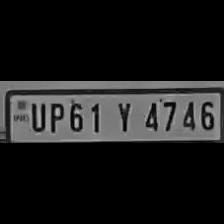1: (86, 99, 106, 133)
4: (138, 97, 160, 132), (178, 97, 196, 131)
6: (64, 99, 86, 133), (196, 97, 216, 130)
7: (159, 97, 177, 132)
P: (46, 99, 64, 133)
U: (28, 100, 46, 132)
Y: (109, 99, 134, 134)
